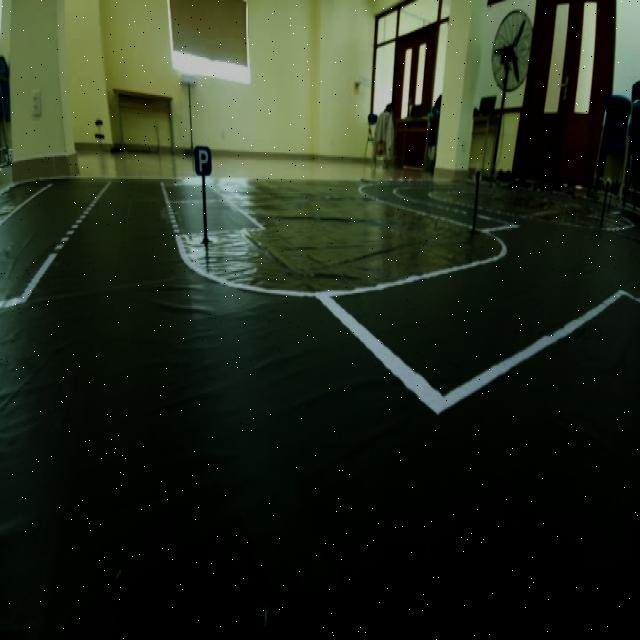parking: (194, 132, 215, 186)
